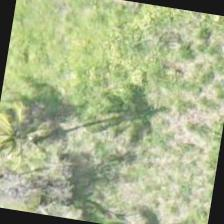Kelapa_Sawit: (0, 83, 78, 185)
